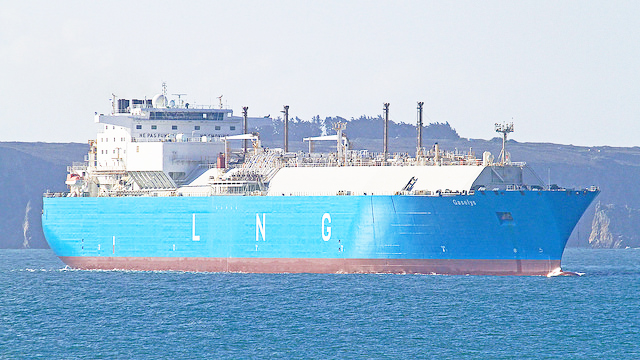LNG_ship: (40, 80, 600, 277)
